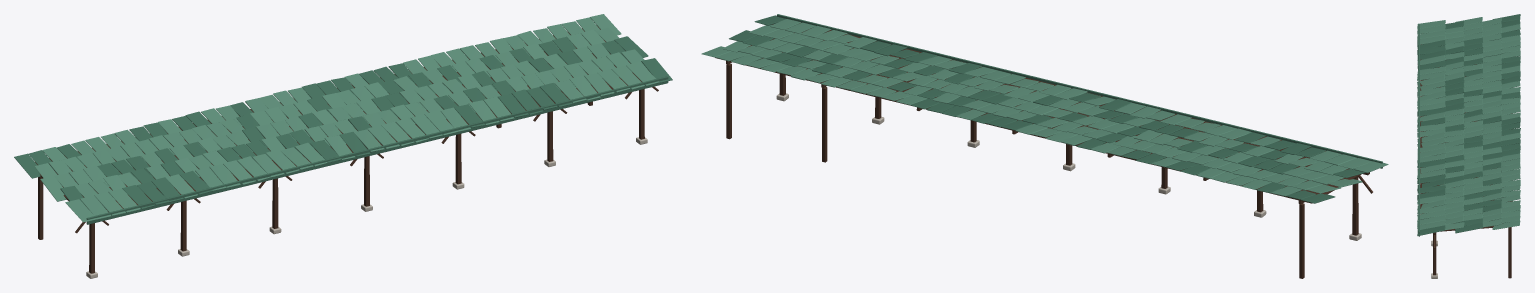
The model's file is canopy.glb.
3 views of the same model, side by side, from view 1: azimuth 30°, elevation 25°; view 2: azimuth 150°, elevation 25°; view 3: azimuth 270°, elevation 25° (orthographic). The views are drawn at different scales.
Parts seen in each view (by area): view 1: fascia, canopy_deck; view 2: fascia, canopy_deck, cpost_back.002, cpost_back, cpost_back.001; view 3: fascia, cpost_back.002, canopy_deck, canopy_t.040, canopy_t.011, canopy_t.038, canopy_t.001, canopy_t.005, canopy_t.018, canopy_t.034, canopy_t.121, canopy_t (+195 smaller).
Part boxes in pixels (<box>): fascia: <box>86,76,668,224</box>; canopy_deck: <box>35,25,641,212</box>; fascia: <box>777,14,1382,168</box>; canopy_deck: <box>715,23,1361,203</box>; cpost_back.002: <box>726,63,731,139</box>; cpost_back: <box>1299,203,1304,278</box>; cpost_back.001: <box>822,87,827,162</box>; fascia: <box>1418,24,1419,236</box>; cpost_back.002: <box>1508,227,1511,278</box>; canopy_deck: <box>1420,44,1512,231</box>; canopy_t.040: <box>1417,225,1445,235</box>; canopy_t.011: <box>1417,75,1445,86</box>; canopy_t.038: <box>1417,215,1445,225</box>; canopy_t.001: <box>1417,25,1445,34</box>; canopy_t.005: <box>1417,45,1445,55</box>; canopy_t.018: <box>1417,112,1445,122</box>; canopy_t.034: <box>1417,195,1445,204</box>; canopy_t.121: <box>1455,222,1482,233</box>; canopy_t: <box>1417,20,1445,28</box>.
Bounding box in the file's own units: 22.6 × 3.01 × 4.69.
